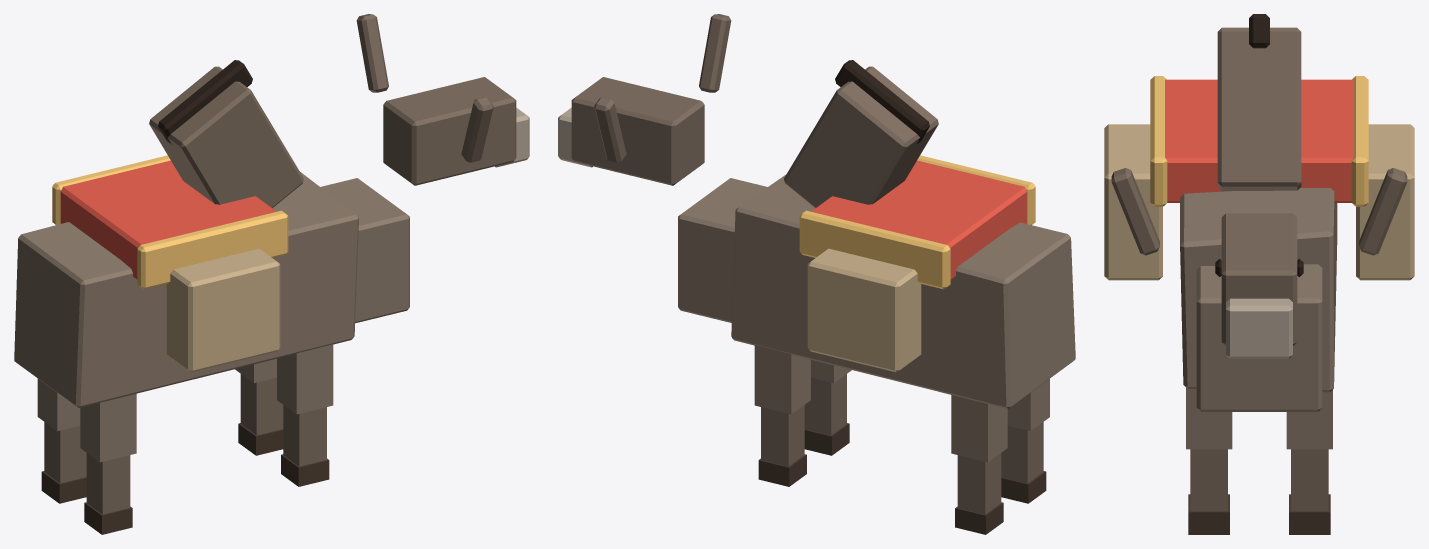
Rendered from donkey.glb.
The picture shows the model from 3 angles, left to right: view 1: azimuth 30°, elevation 25°; view 2: azimuth 150°, elevation 25°; view 3: azimuth 270°, elevation 25°; orthographic projection. The views are drawn at different scales.
Visible parts, largest first — view 1: body, leg_fr, leg_br, leg_bl, leg_fl; view 2: body, leg_fl, leg_bl, leg_br, leg_fr; view 3: body, leg_fr, leg_fl.
Boxes of the visible parts, x1,y1,x2,y2 form: body: [14, 14, 529, 407]; leg_fr: [277, 344, 333, 486]; leg_br: [80, 393, 136, 534]; leg_bl: [37, 378, 86, 503]; leg_fl: [235, 358, 283, 455]; body: [558, 14, 1075, 408]; leg_fl: [754, 345, 810, 486]; leg_bl: [951, 395, 1007, 534]; leg_br: [1001, 379, 1049, 503]; leg_fr: [804, 360, 851, 455]; body: [1104, 14, 1414, 411]; leg_fr: [1186, 387, 1232, 534]; leg_fl: [1286, 390, 1332, 534].
Size of the model in its own units: 1.54 by 1.28 by 0.74.
